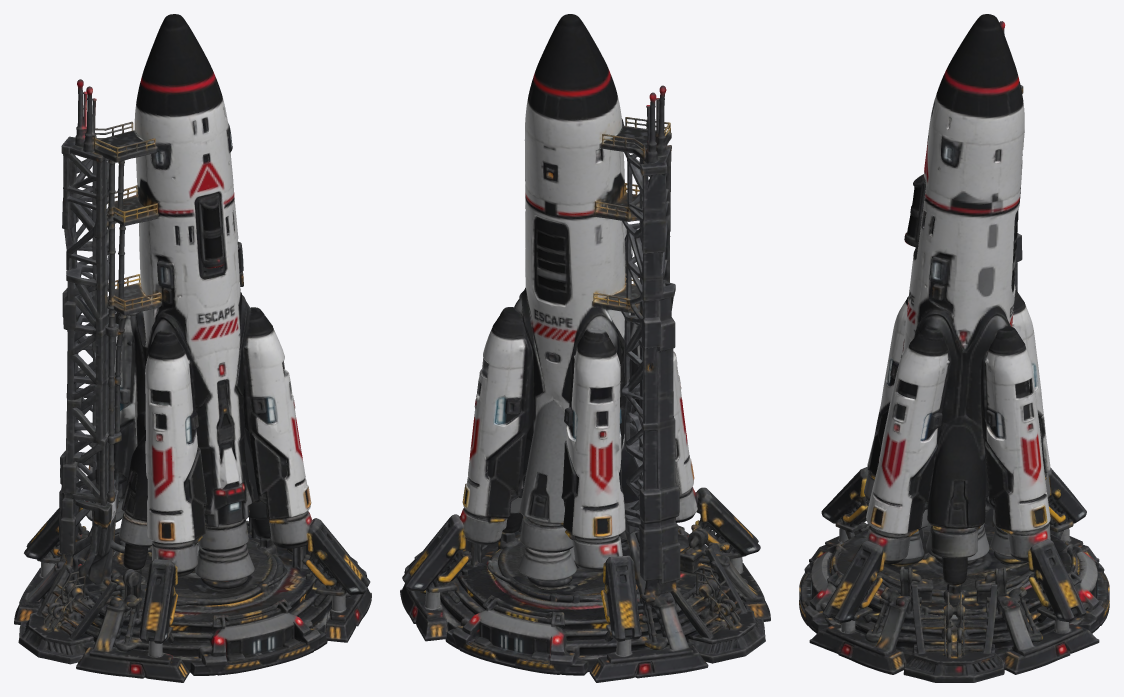
File: moon_rocket.glb
3 renders of one model, left to right at view 1: azimuth 30°, elevation 25°; view 2: azimuth 150°, elevation 25°; view 3: azimuth 270°, elevation 25°, orthographic. The views are drawn at different scales.
Parts seen in each view (by area): view 1: frame; view 2: frame; view 3: frame.
Boxes of the visible parts, x1,y1,x2,y2 form: frame: (14,14,371,682); frame: (400,14,770,682); frame: (799,14,1109,682).
Bounding box in the file's own units: 15.36 × 26 × 12.5.
1 material, 1 textured.
